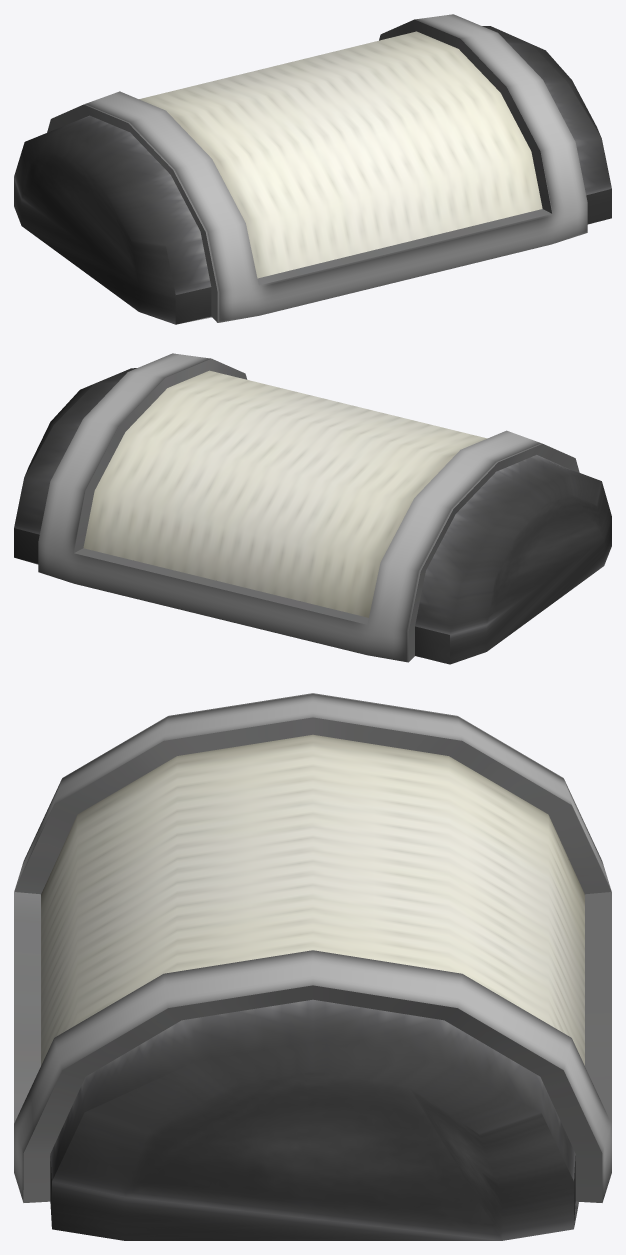
Rendered from StationLight.FBX.
3 renders of one model, top to bottom at view 1: azimuth 30°, elevation 25°; view 2: azimuth 150°, elevation 25°; view 3: azimuth 270°, elevation 25°, orthographic. The views are drawn at different scales.
Visible parts, largest first — view 1: MainBody, LightPanel; view 2: MainBody, LightPanel; view 3: MainBody, LightPanel.
Boxes of the visible parts, x1,y1,x2,y2 form: MainBody: (14, 14, 611, 324); LightPanel: (139, 31, 542, 278); MainBody: (14, 353, 611, 664); LightPanel: (83, 370, 487, 617); MainBody: (14, 693, 611, 1240); LightPanel: (41, 734, 584, 1065).
Size of what is drawn, in the model's own units: 0.16 by 0.0453 by 0.11.
